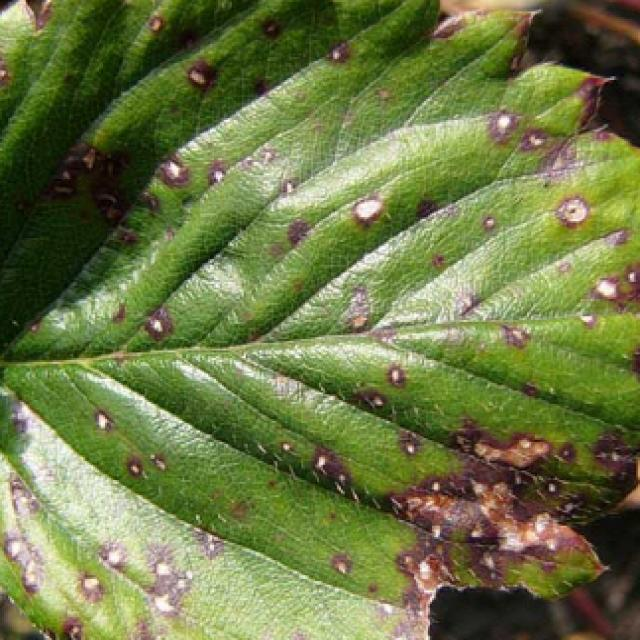Leaf Spot: (0, 0, 640, 640)
